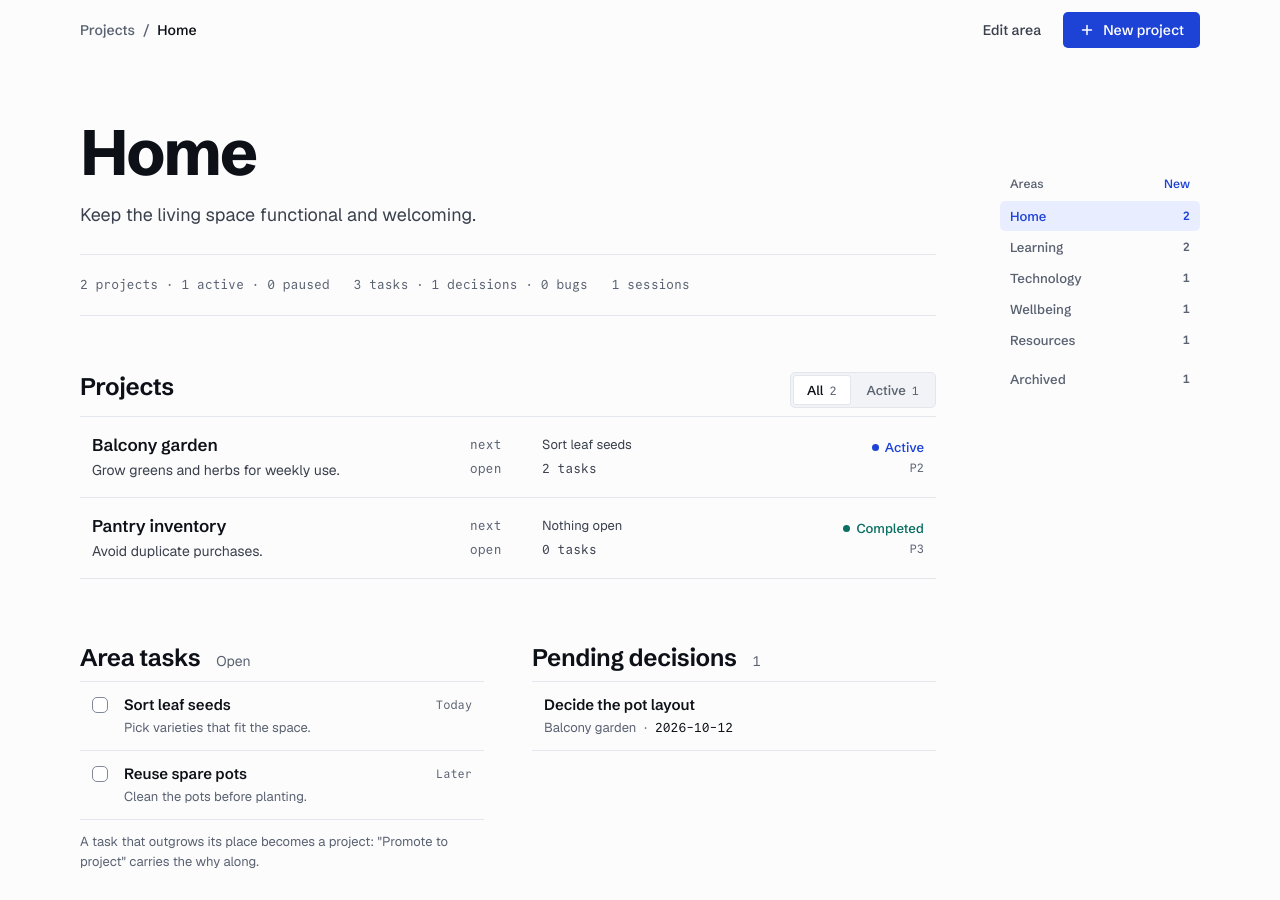
area view over the mock source › narrows the project list to the active ones
Click the tab with class "nt-seg-btn" showing "Active 1": [893, 390] box [853,375,933,405]
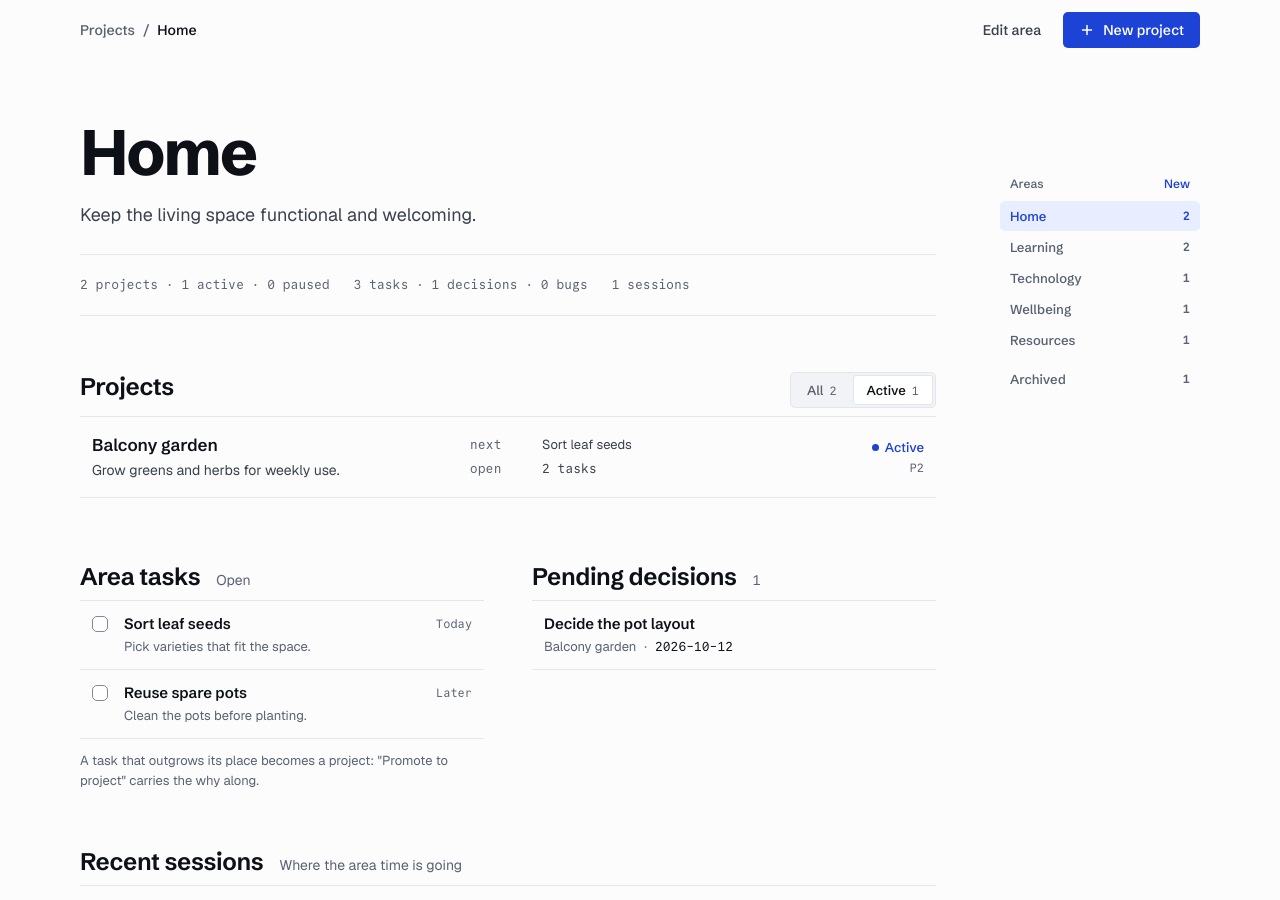
Expected: the elements with class "row-title" read "Balcony garden", in this order, [92,434,218,455]
Click the tab with class "nt-seg-btn" showing "All 2": [822, 390] box [793,375,851,405]
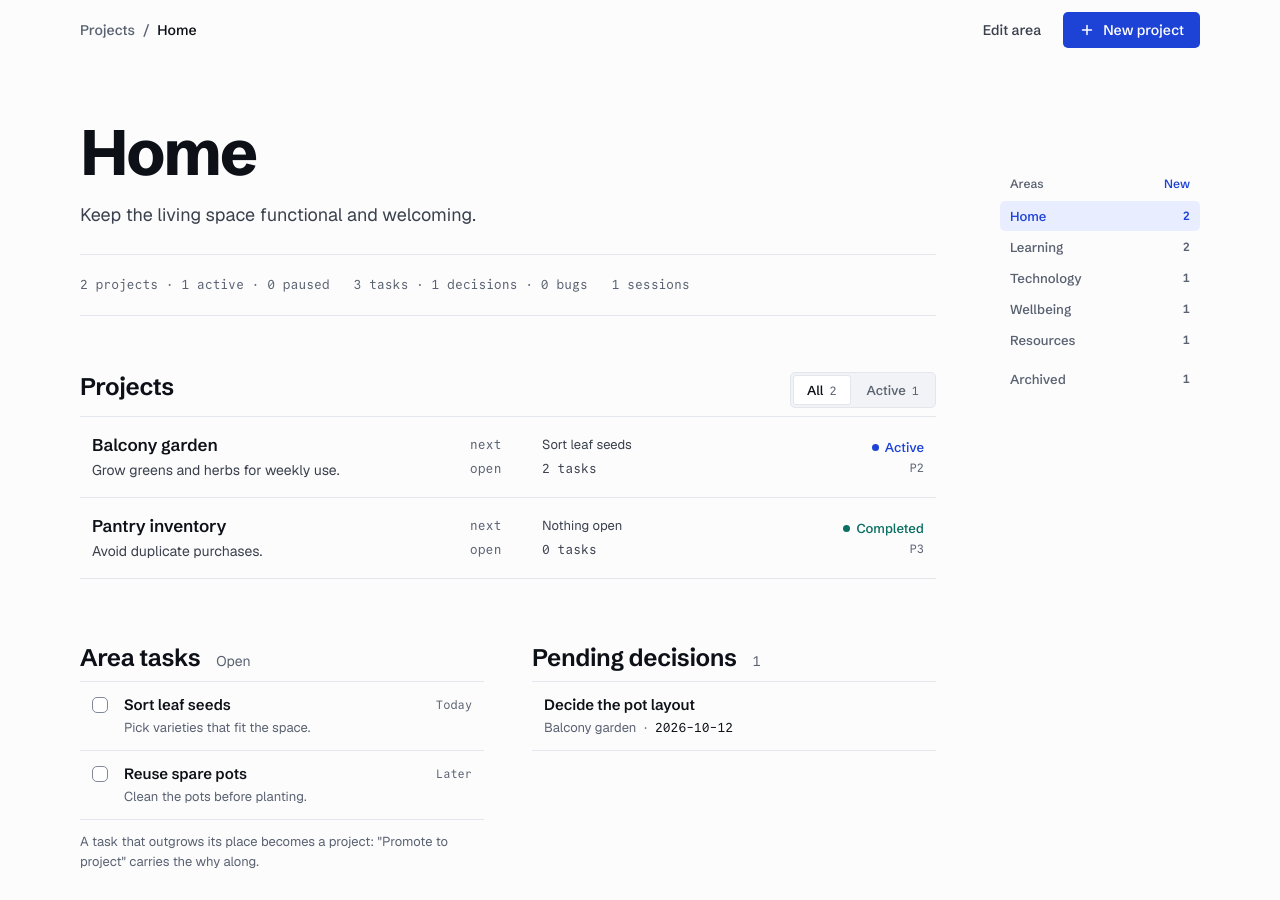
Expected: the number of elements with class "row-title" is 2, [92,434,218,455]; [92,515,226,536]
